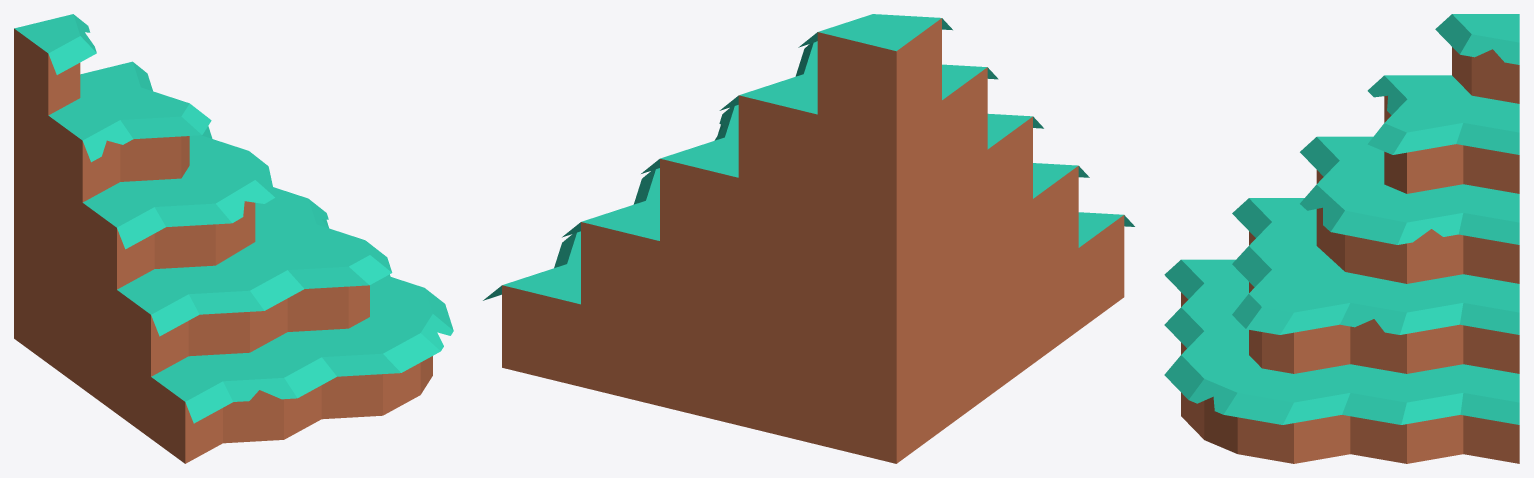
File: cliff_stepsCorner_rock.dae
3 views of the same model, side by side, from view 1: azimuth 30°, elevation 25°; view 2: azimuth 150°, elevation 25°; view 3: azimuth 270°, elevation 25° (orthographic). The views are drawn at different scales.
Parts seen in each view (by area): view 1: cliff_stepsCorner_rock; view 2: cliff_stepsCorner_rock; view 3: cliff_stepsCorner_rock.
Boxes of the visible parts, x1=… form: cliff_stepsCorner_rock: x1=14, y1=14, x2=453, y2=463; cliff_stepsCorner_rock: x1=483, y1=14, x2=1134, y2=463; cliff_stepsCorner_rock: x1=1164, y1=14, x2=1519, y2=463.
Bounding box in the file's own units: 1.05 × 1 × 1.05.
